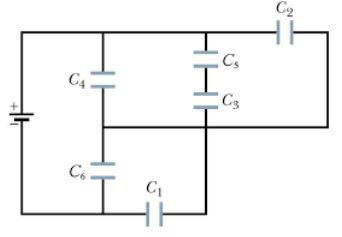Capacitor: (184, 81, 220, 114)
